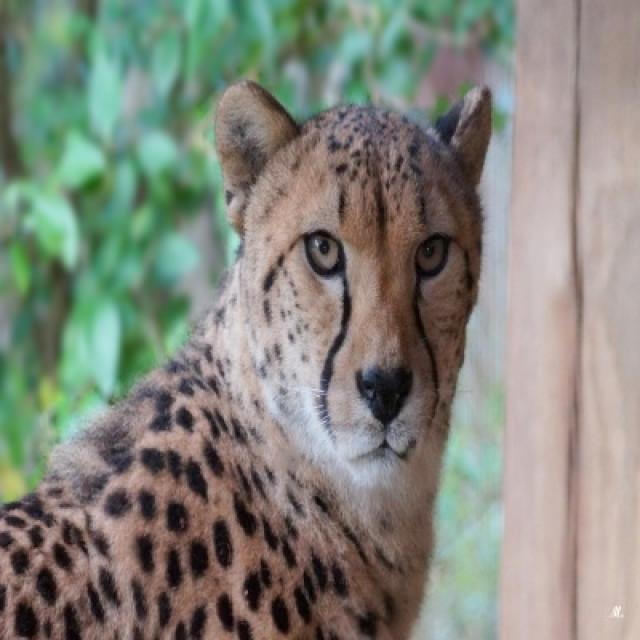Cheetah: (0, 80, 493, 638)
